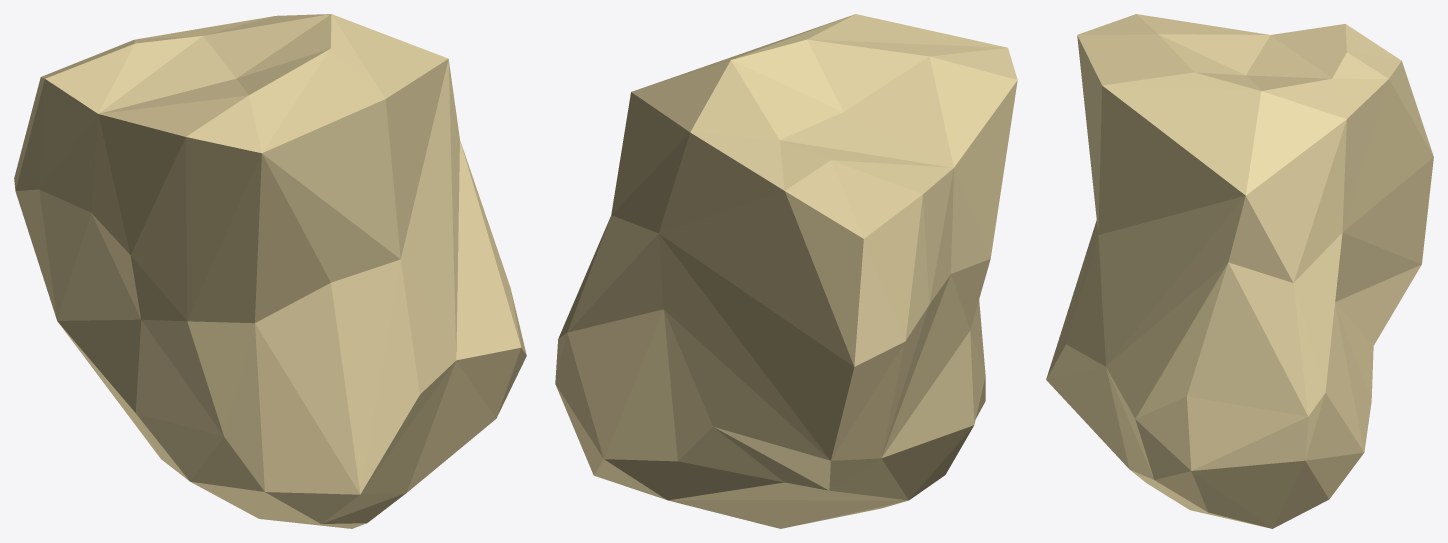
Rendered from Rock (60).fbx.
The picture shows the model from 3 angles, left to right: view 1: azimuth 30°, elevation 25°; view 2: azimuth 150°, elevation 25°; view 3: azimuth 270°, elevation 25°; orthographic projection. The views are drawn at different scales.
Parts seen in each view (by area): view 1: Asteroid59; view 2: Asteroid59; view 3: Asteroid59.
Part boxes in pixels (left/top/right/bottom): Asteroid59: left=14, top=14, right=526, bottom=528; Asteroid59: left=555, top=14, right=1017, bottom=528; Asteroid59: left=1046, top=14, right=1433, bottom=528.
Size of the model in its own units: 117 by 135 by 110.
